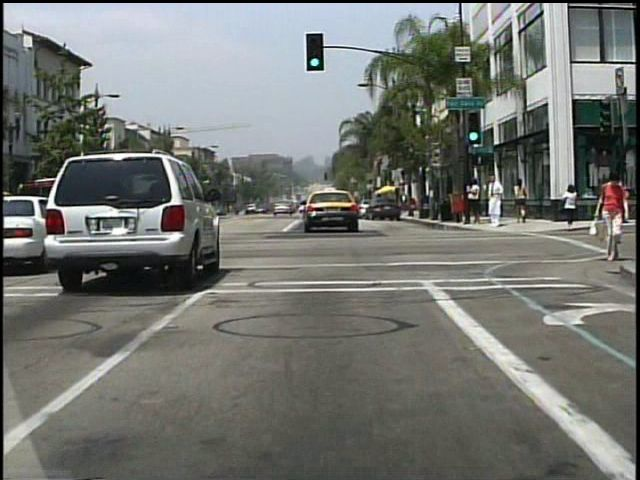person: (590, 172, 631, 261), (604, 171, 625, 234), (484, 175, 505, 228), (563, 181, 581, 231), (514, 178, 530, 225), (469, 174, 482, 225), (401, 191, 410, 215)
